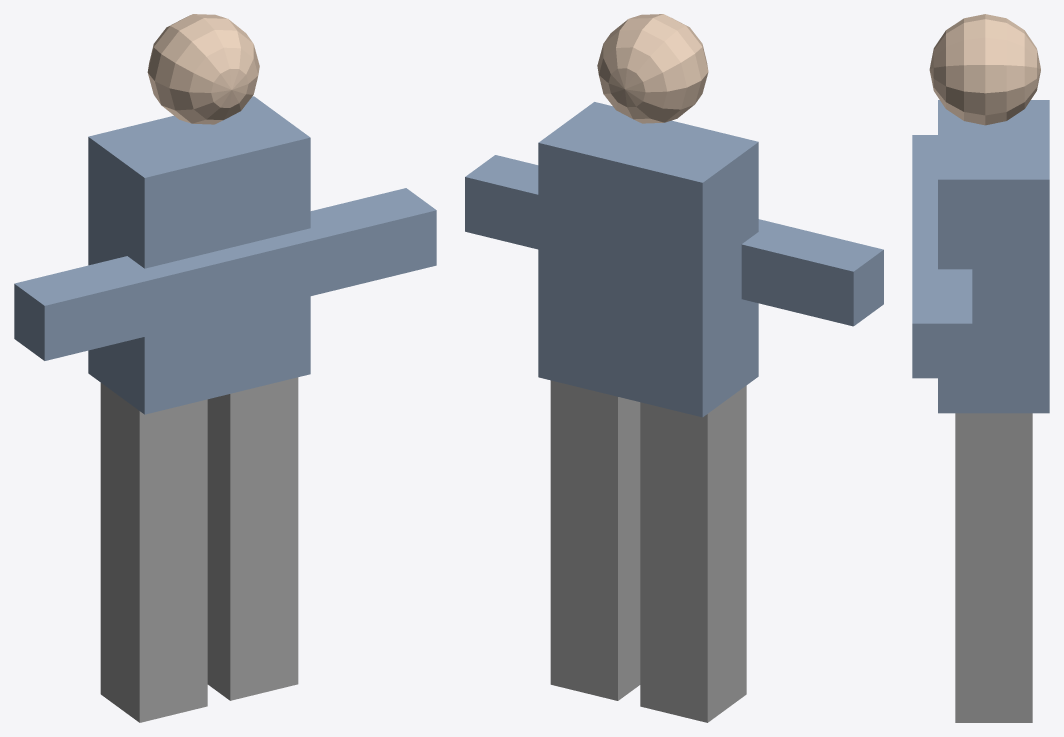
The model's file is idle_vigilant.glb.
3 views of the same model, side by side, from view 1: azimuth 30°, elevation 25°; view 2: azimuth 150°, elevation 25°; view 3: azimuth 270°, elevation 25° (orthographic).
Parts seen in each view (by area): view 1: torso, leg_l, leg_r, arm_l, arm_r, head; view 2: torso, leg_l, leg_r, arm_l, head, arm_r; view 3: torso, leg_r, head, arm_r, arm_l.
Part boxes in pixels (x1=…): torso: x1=88, y1=96, x2=310, y2=414; leg_l: x1=100, y1=383, x2=207, y2=722; leg_r: x1=207, y1=377, x2=298, y2=700; arm_l: x1=14, y1=245, x2=255, y2=360; arm_r: x1=213, y1=188, x2=436, y2=316; head: x1=147, y1=14, x2=259, y2=124; torso: x1=538, y1=102, x2=758, y2=417; leg_l: x1=640, y1=385, x2=746, y2=722; leg_r: x1=550, y1=380, x2=640, y2=700; arm_l: x1=741, y1=219, x2=883, y2=326; head: x1=597, y1=14, x2=708, y2=123; arm_r: x1=465, y1=155, x2=538, y2=249; torso: x1=938, y1=100, x2=1049, y2=413; leg_r: x1=955, y1=413, x2=1032, y2=722; head: x1=929, y1=14, x2=1040, y2=125; arm_r: x1=912, y1=222, x2=972, y2=378; arm_l: x1=912, y1=135, x2=937, y2=221.
Size of the model in its own units: 1.04 by 1.71 by 0.32.
